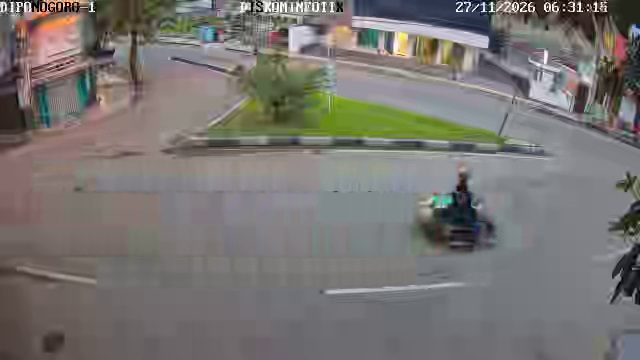Gerobak: (416, 174, 496, 250)
